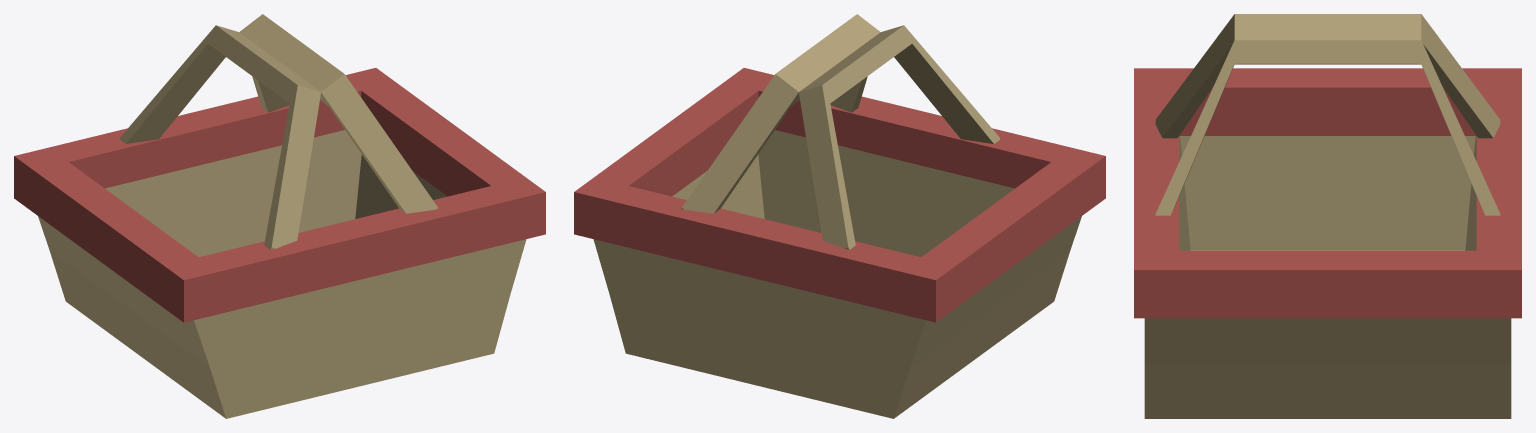
The model's file is Picnic Basket.fbx.
The picture shows the model from 3 angles, left to right: view 1: azimuth 30°, elevation 25°; view 2: azimuth 150°, elevation 25°; view 3: azimuth 270°, elevation 25°; orthographic projection. The views are drawn at different scales.
Visible parts, largest first — view 1: pCube6; view 2: pCube6; view 3: pCube6.
Part boxes in pixels (bbox=[...]): pCube6: bbox=[14, 14, 545, 418]; pCube6: bbox=[574, 14, 1105, 418]; pCube6: bbox=[1134, 14, 1521, 418].
Bounding box in the file's own units: 1.3 × 0.9558 × 1.06.
